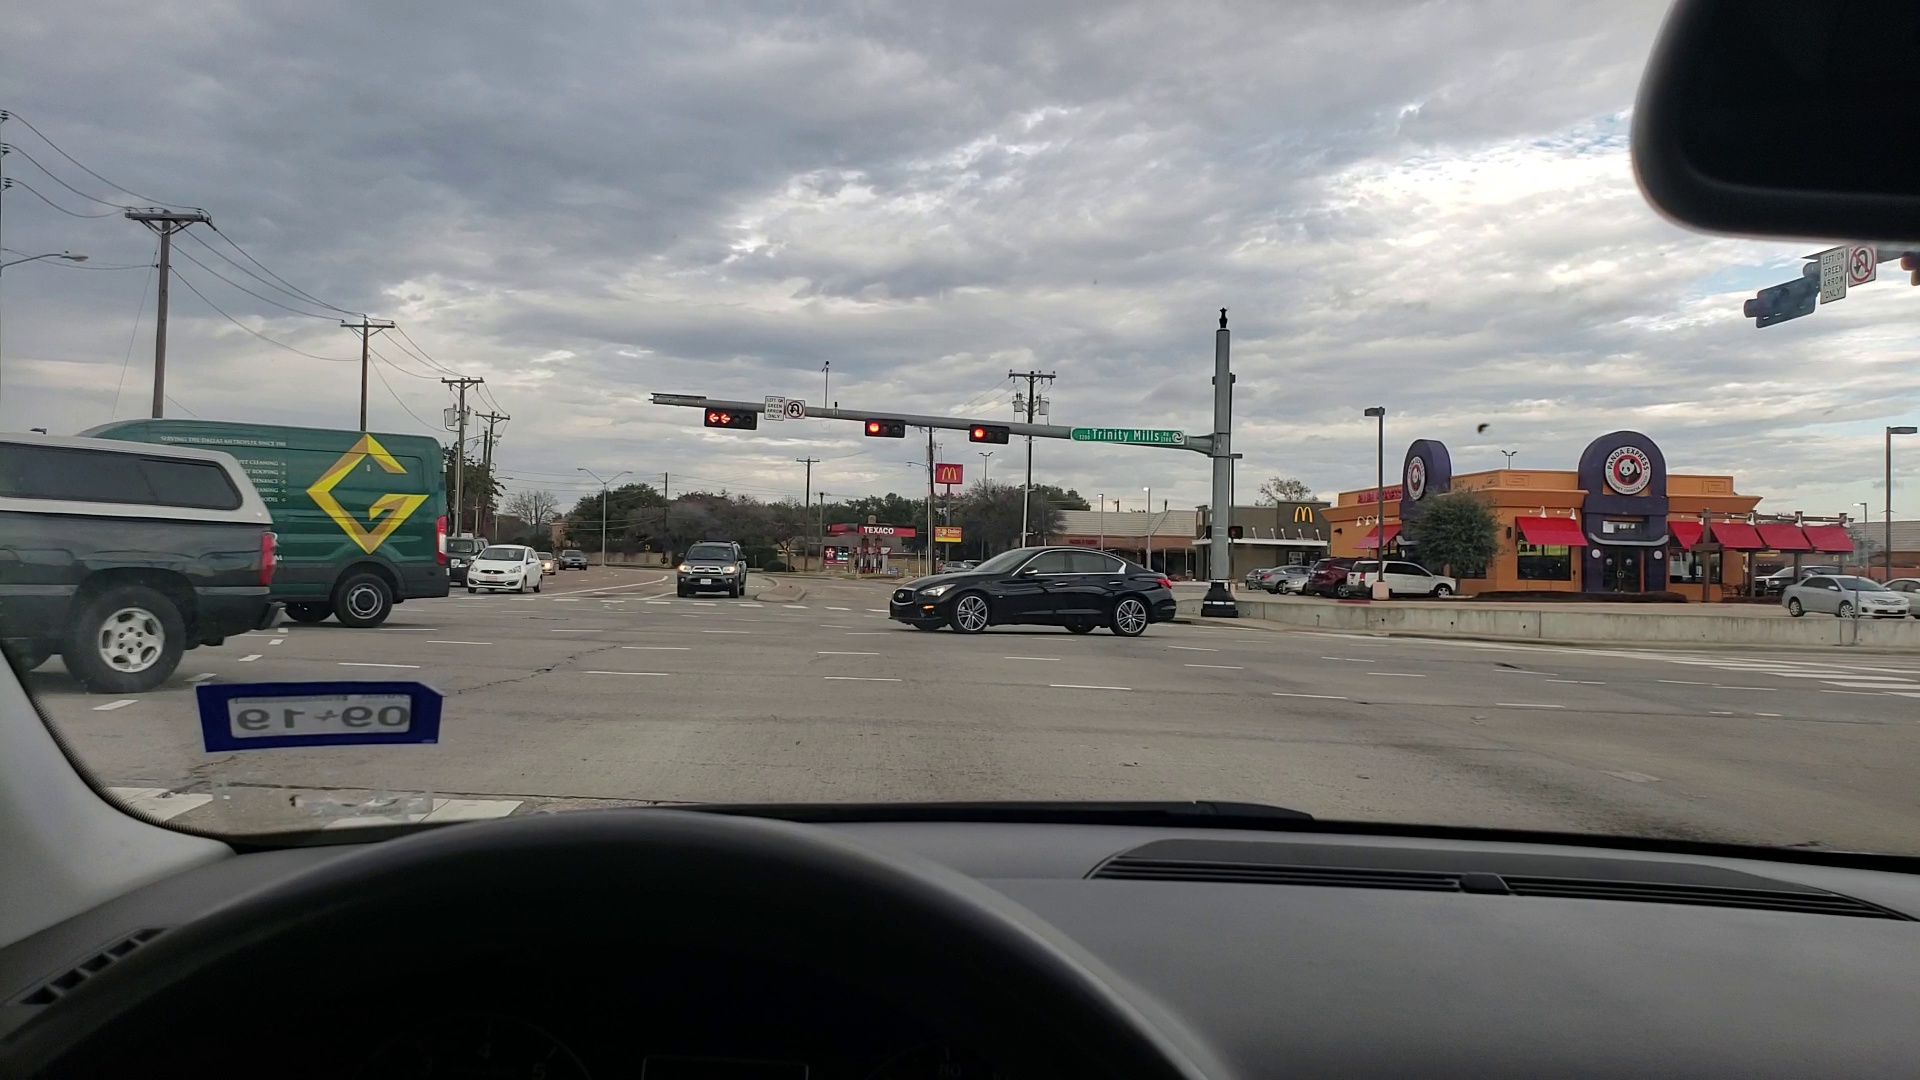car: (891, 549, 1178, 642), (1784, 574, 1903, 621), (473, 535, 543, 603), (670, 535, 742, 600), (1356, 555, 1457, 597), (1759, 564, 1842, 597), (444, 524, 488, 582), (1309, 555, 1358, 593), (1261, 564, 1316, 595), (1286, 574, 1315, 593), (563, 546, 589, 567), (533, 551, 555, 574), (1244, 564, 1265, 585)
traffic light: (1742, 280, 1821, 324), (698, 407, 756, 429), (862, 413, 906, 435), (967, 423, 1006, 440)
truck: (70, 402, 451, 620), (9, 427, 278, 680)
